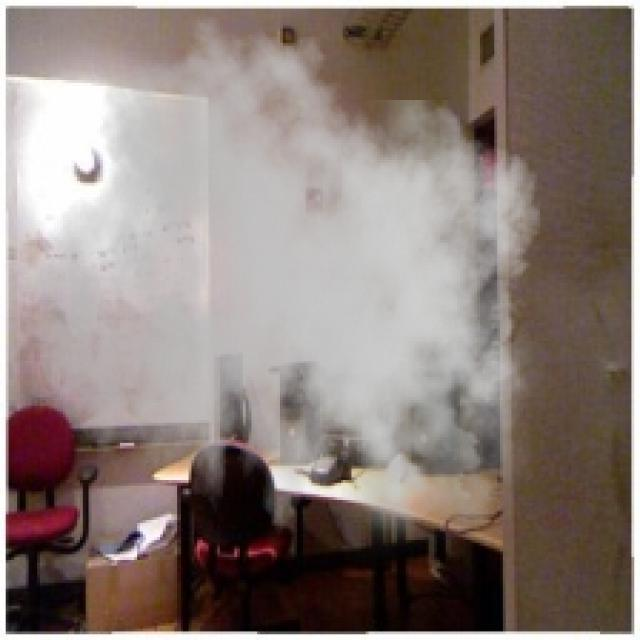Smoke: (31, 14, 558, 569)
